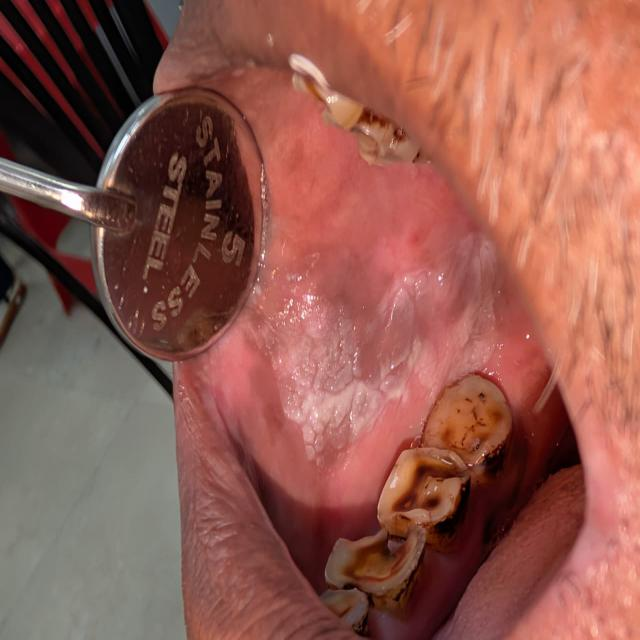leukoplakia-detection: (245, 227, 505, 472)
processing_area: (180, 67, 593, 639)
